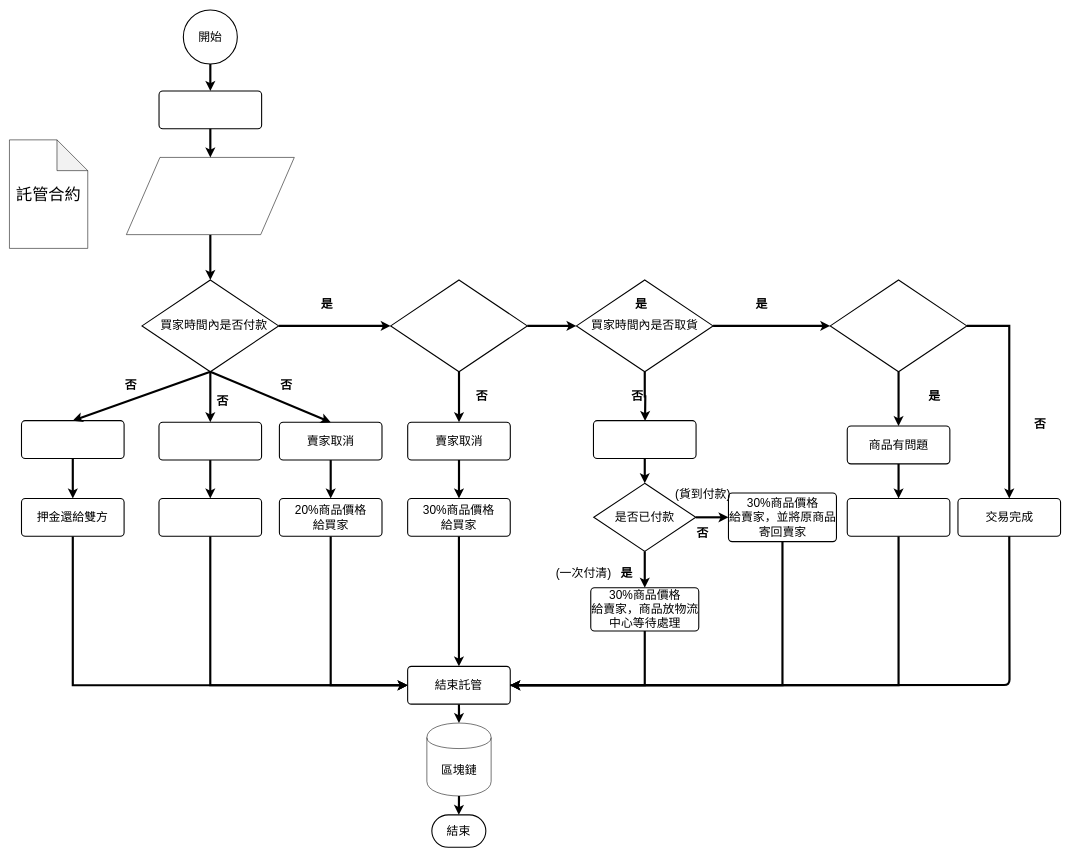
This 1070x857 diagram has some shape labels left out. Here are the shapes that lost their labels. From the top down, the centre of each, then its label:
At [210,109]: "賣家建立託管合約".
At [210,196]: "賣家輸入 託管合約所需資訊".
At [459,325]: "賣家時間內是否出貨".
At [898,325]: "商品是否有問題".
At [72,439]: "買賣皆同意取消".
At [210,440]: "買家取消".
At [644,439]: "買家未拿貨".
At [210,517]: "20%商品價格 給賣家".
At [898,517]: "雙方給予交易金鑰 進入第三方仲裁".
